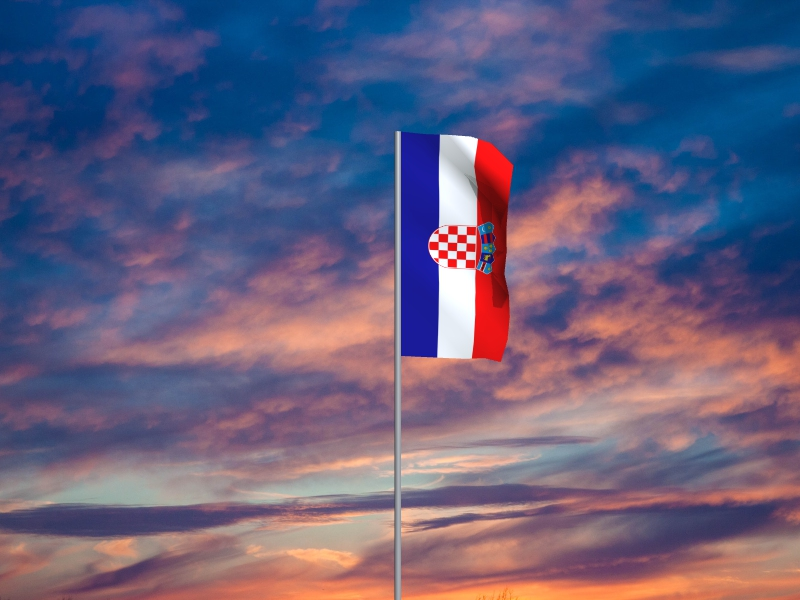hr: (402, 133, 515, 363)
